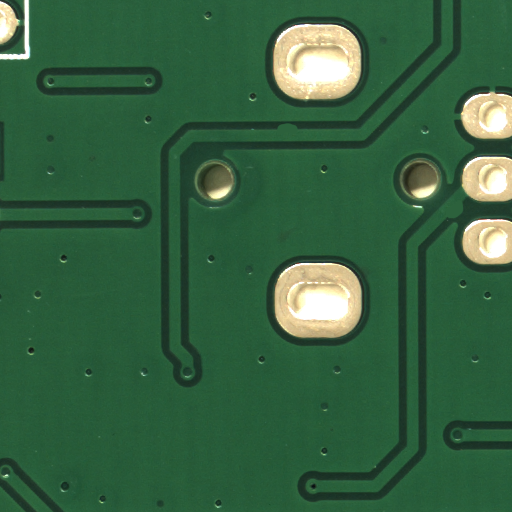Spur: (455, 211, 470, 226), (286, 127, 308, 134)
